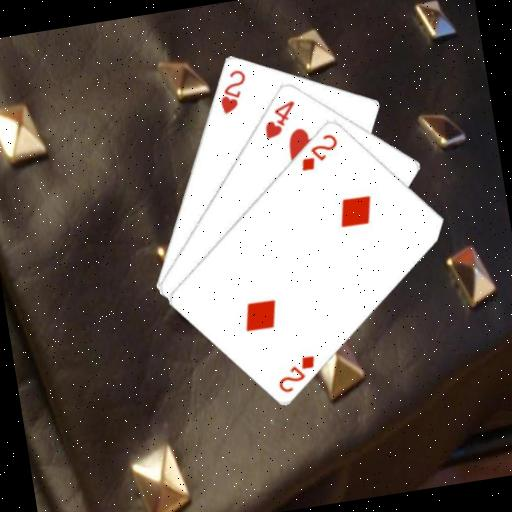2D: (293, 128, 343, 173), (271, 351, 320, 395)
2H: (211, 64, 252, 116)
4H: (257, 95, 301, 141)
